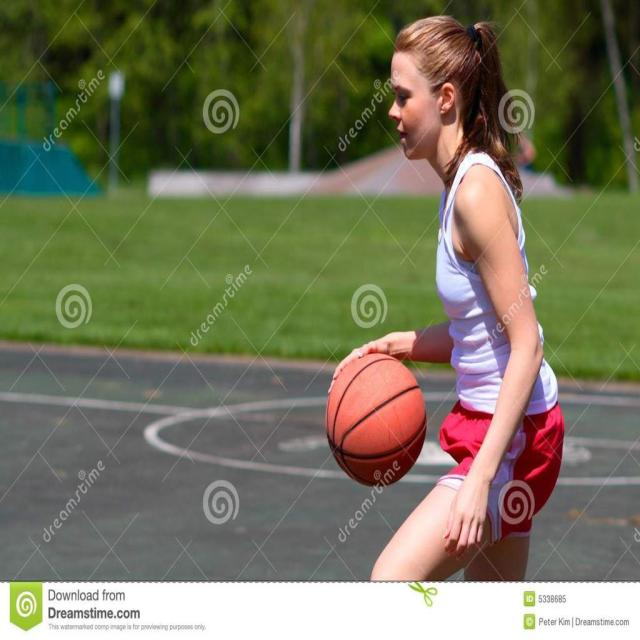Face: (375, 36, 455, 161)
